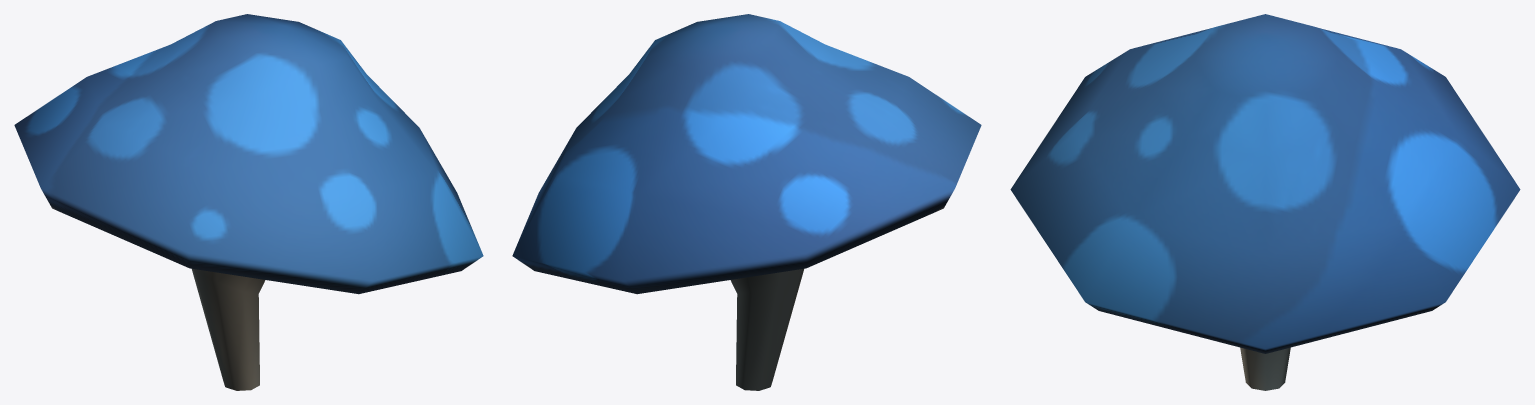
The model's file is mashroom.fbx.
The picture shows the model from 3 angles, left to right: view 1: azimuth 30°, elevation 25°; view 2: azimuth 150°, elevation 25°; view 3: azimuth 270°, elevation 25°; orthographic projection. The views are drawn at different scales.
Visible parts, largest first — view 1: mashroom; view 2: mashroom; view 3: mashroom.
Boxes of the visible parts, x1,y1,x2,y2 form: mashroom: (14,14,483,390); mashroom: (512,14,981,390); mashroom: (1010,14,1520,390).
Size of the model in its own units: 4.21 by 3.37 by 4.34.
